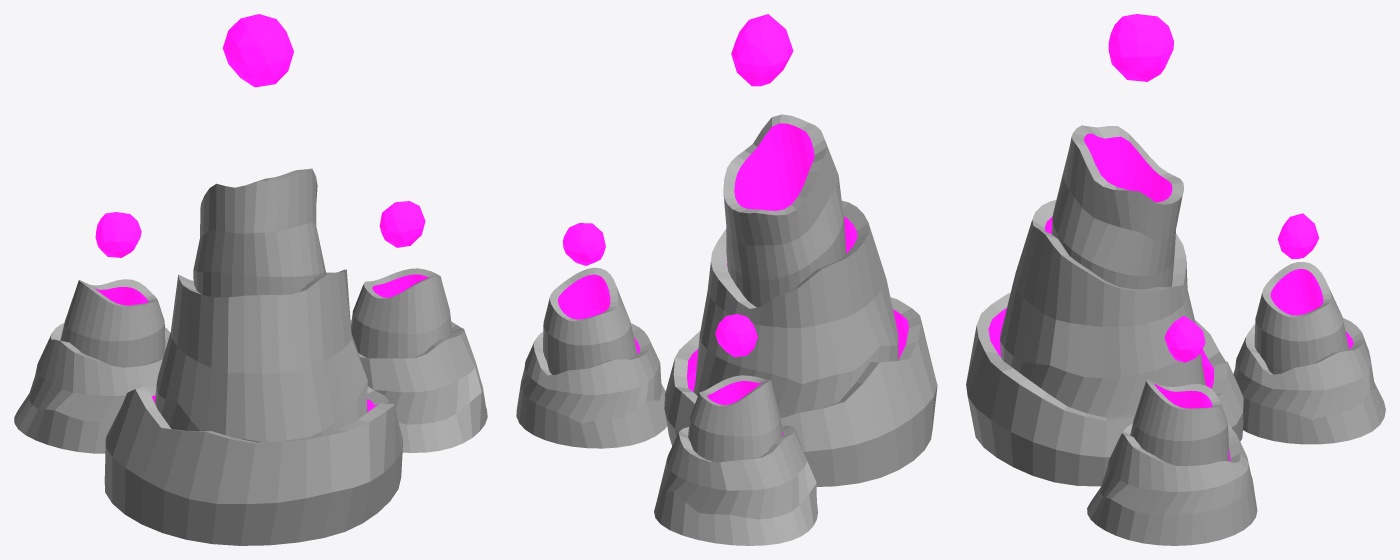
Rendered from lvl3B.fbx.
3 views of the same model, side by side, from view 1: azimuth 30°, elevation 25°; view 2: azimuth 150°, elevation 25°; view 3: azimuth 270°, elevation 25° (orthographic). The views are drawn at different scales.
Visible parts, largest first — view 1: lvl3B; view 2: lvl3B; view 3: lvl3B.
Boxes of the visible parts, bbox=[...] form: lvl3B: bbox=[14, 14, 487, 545]; lvl3B: bbox=[516, 14, 937, 545]; lvl3B: bbox=[966, 14, 1385, 545].
Bounding box in the file's own units: 651 × 730 × 656.
